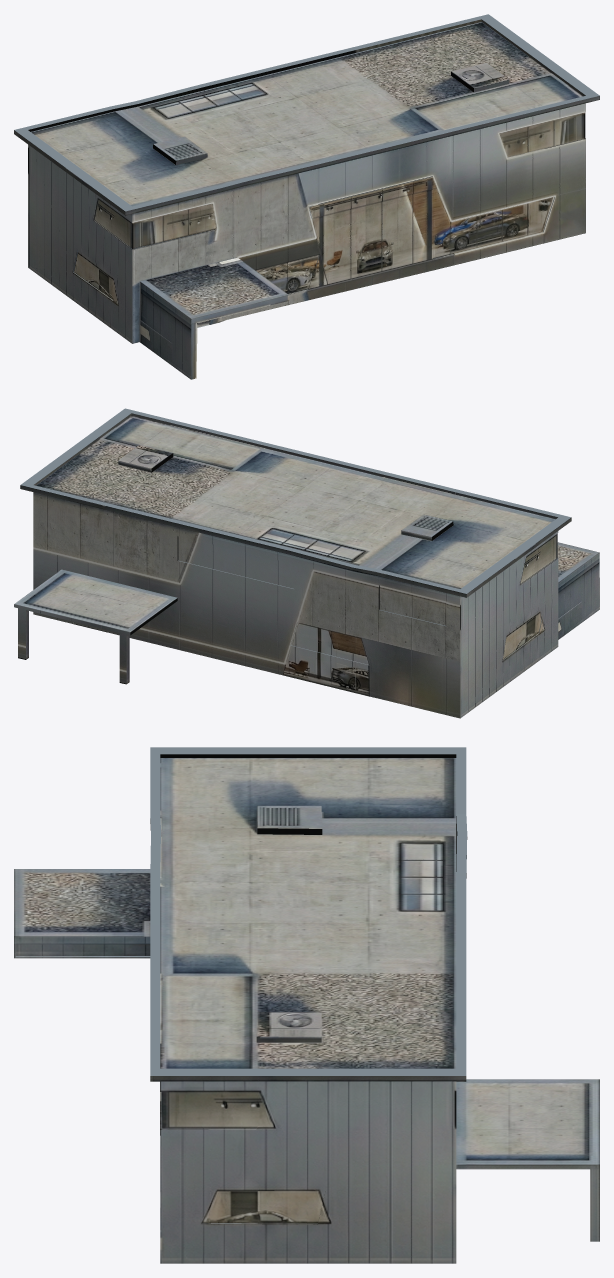
File: car_showroom.opt.glb
3 renders of one model, top to bottom at view 1: azimuth 30°, elevation 25°; view 2: azimuth 150°, elevation 25°; view 3: azimuth 270°, elevation 25°, orthographic. The views are drawn at different scales.
Size of the model in its own units: 12.36 by 3.49 by 9.32.
Materials: 1 (1 with a texture image).
